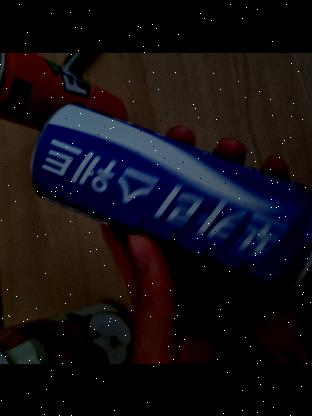Can: (29, 98, 312, 284)
